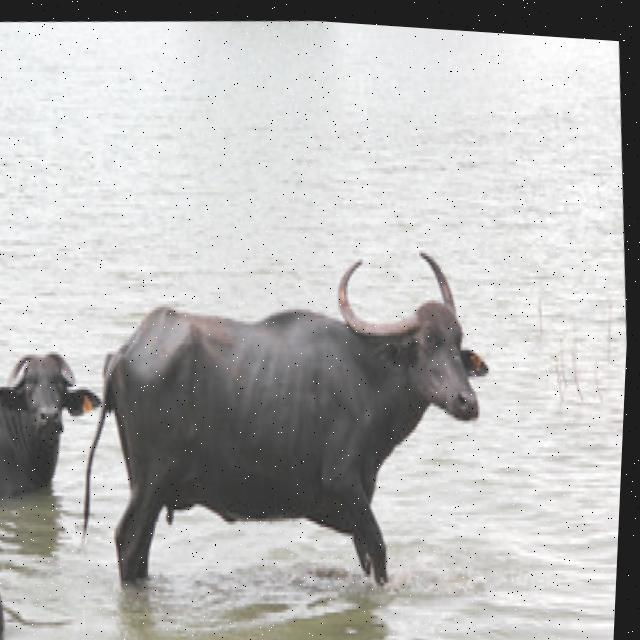Buffalo: (59, 219, 513, 618), (0, 334, 111, 497)
